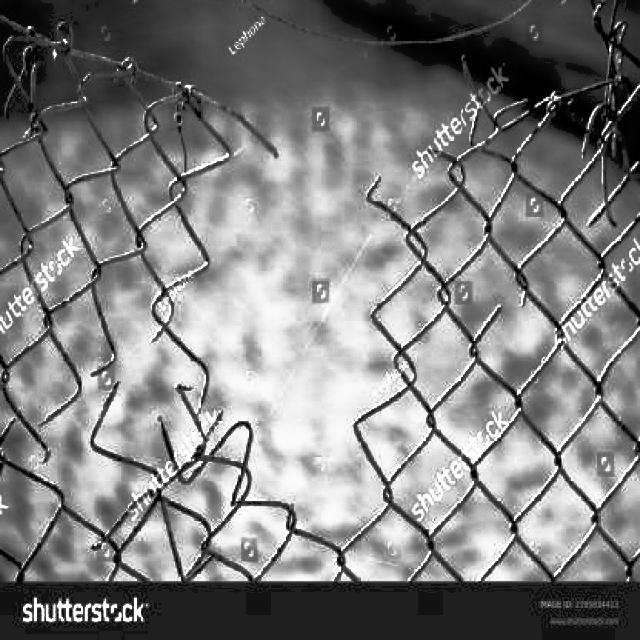anomaly-fence: (71, 17, 584, 539)
